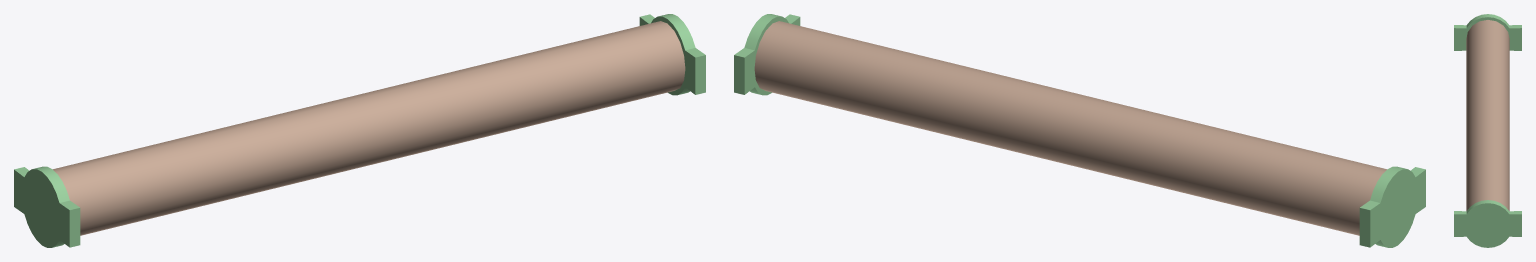
File: Pipe_Small_02c_snaps020.FBX
3 renders of one model, left to right at view 1: azimuth 30°, elevation 25°; view 2: azimuth 150°, elevation 25°; view 3: azimuth 270°, elevation 25°, orthographic. The views are drawn at different scales.
Parts seen in each view (by area): view 1: Pipe_Small_02c_snaps020_LOD0; view 2: Pipe_Small_02c_snaps020_LOD0; view 3: Pipe_Small_02c_snaps020_LOD0.
Part boxes in pixels (bbox=[...]): Pipe_Small_02c_snaps020_LOD0: bbox=[14, 14, 705, 247]; Pipe_Small_02c_snaps020_LOD0: bbox=[734, 14, 1425, 247]; Pipe_Small_02c_snaps020_LOD0: bbox=[1454, 14, 1521, 247].
Size of what is drawn, in the model's own units: 1 by 0.1518 by 0.1106.
